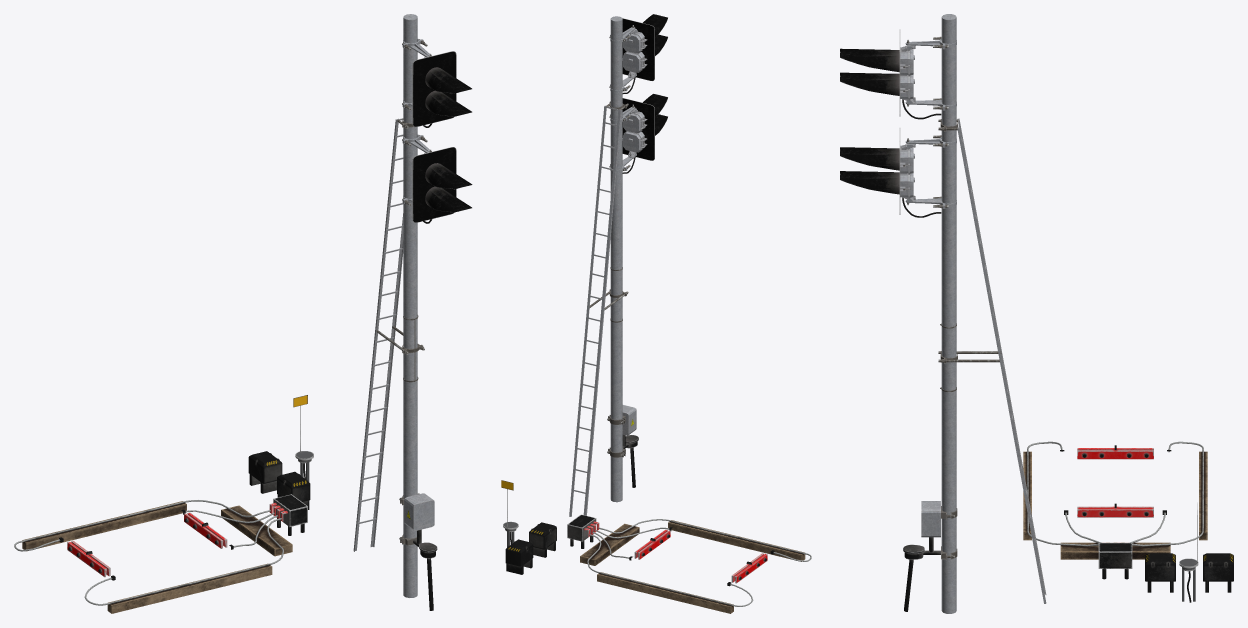
Rendered from RM_sig_P_MM1_YG+RW_2+2_exit.gltf.
3 renders of one model, left to right at view 1: azimuth 30°, elevation 25°; view 2: azimuth 150°, elevation 25°; view 3: azimuth 270°, elevation 25°, orthographic. The views are drawn at different scales.
Visible parts, largest first — view 1: Светофор 2+2, Изостык; view 2: Светофор 2+2, Изостык; view 3: Светофор 2+2, Изостык.
Part boxes in pixels (x1,y1,x2,y2): Светофор 2+2: (353,14,472,610); Изостык: (14,395,313,613); Светофор 2+2: (569,14,667,516); Изостык: (501,480,811,613); Светофор 2+2: (840,14,1046,613); Изостык: (1023,441,1233,602).
Size of the model in its own units: 4.1 by 7.57 by 4.55.
Materials: 2 (2 with a texture image).
